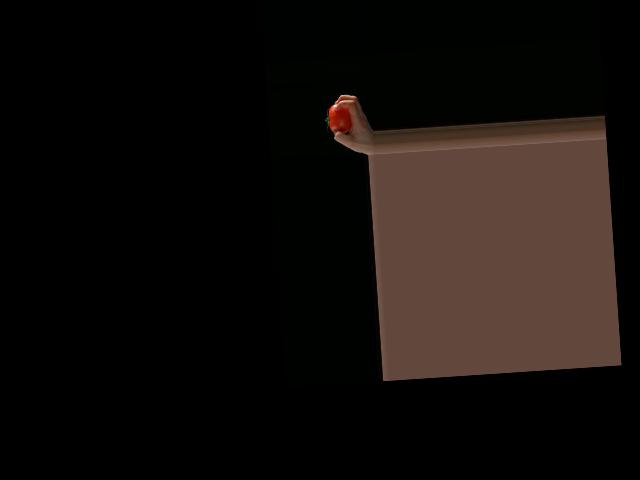tomato: (325, 103, 351, 134)
